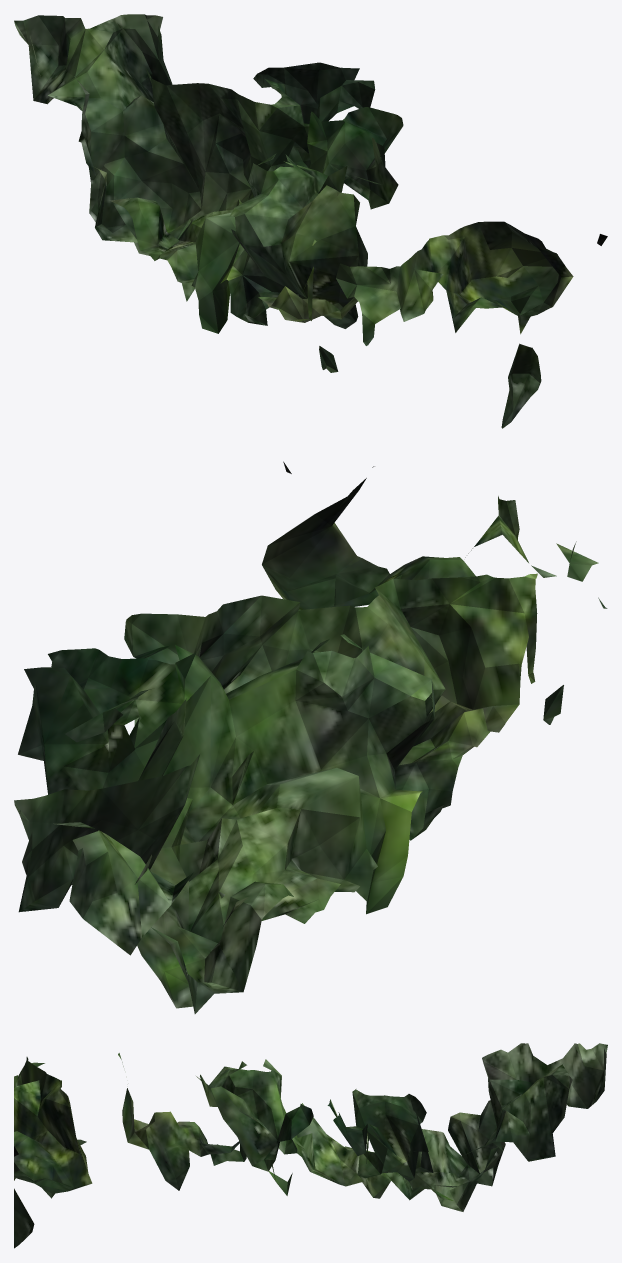
3 views of the same model, one above another, from view 1: azimuth 30°, elevation 25°; view 2: azimuth 150°, elevation 25°; view 3: azimuth 270°, elevation 25° (orthographic). The views are drawn at different scales.
Bounding box in the file's own units: 9.84 × 6.99 × 25.11.
2 materials, 2 textured.
